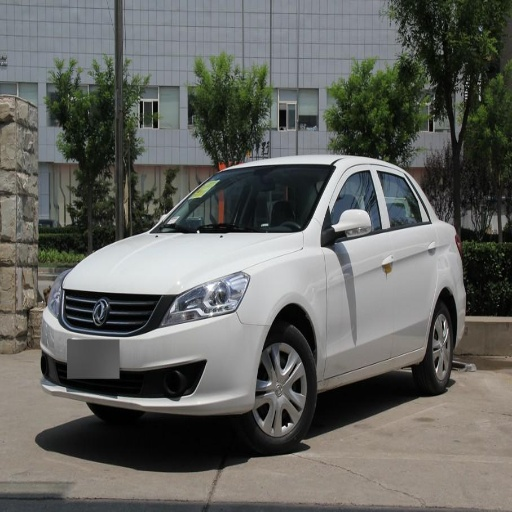front_bumper: (40, 279, 270, 415)
front_glass: (153, 166, 334, 232)
front_left_door: (323, 166, 394, 377)
